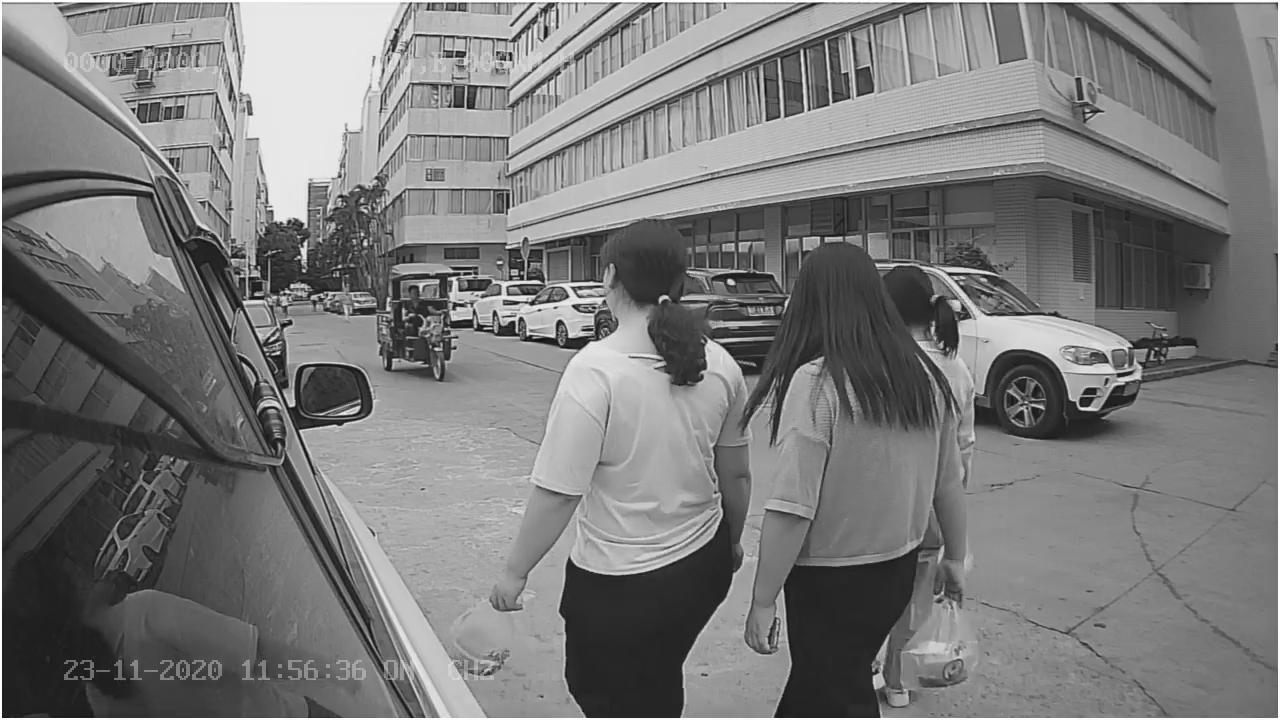person: (479, 207, 751, 720), (744, 242, 975, 712)
